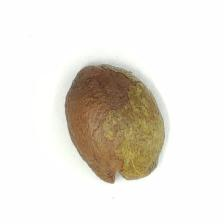NG: (104, 62, 166, 184)
